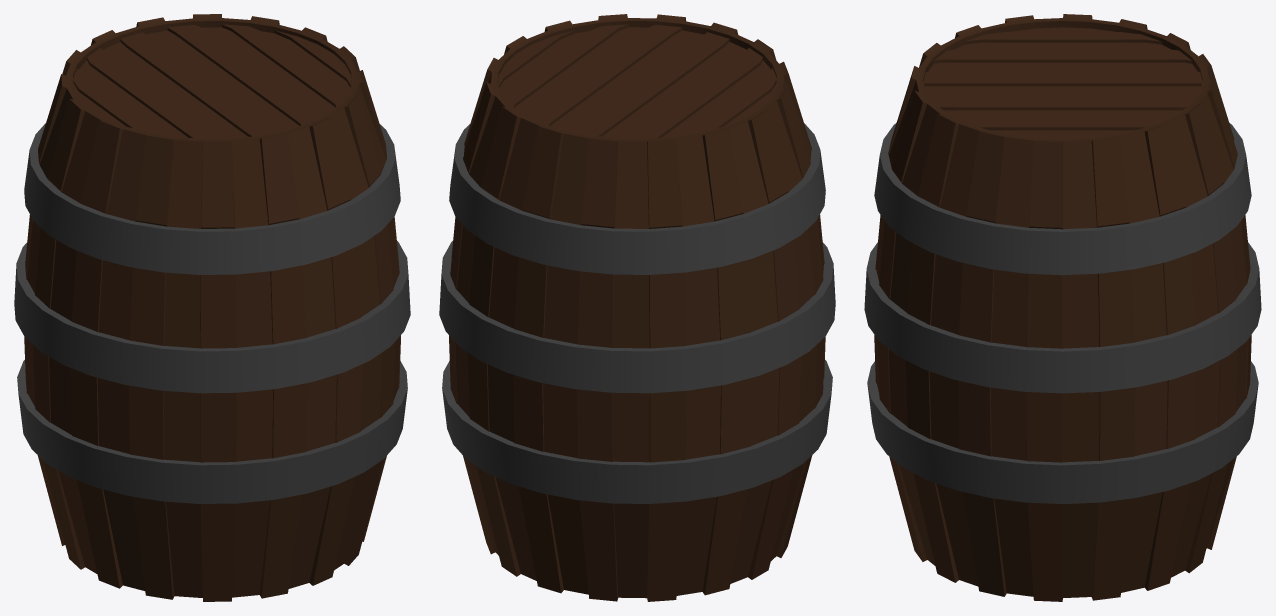
Rendered from Barrel_DP2609.fbx.
3 renders of one model, left to right at view 1: azimuth 30°, elevation 25°; view 2: azimuth 150°, elevation 25°; view 3: azimuth 270°, elevation 25°, orthographic.
Parts seen in each view (by area): view 1: Cylinder; view 2: Cylinder; view 3: Cylinder.
Part boxes in pixels (<box>): Cylinder: <box>14,14,410,601</box>; Cylinder: <box>439,14,835,601</box>; Cylinder: <box>864,14,1261,601</box>.
Bounding box in the file's own units: 271 × 346 × 271.
